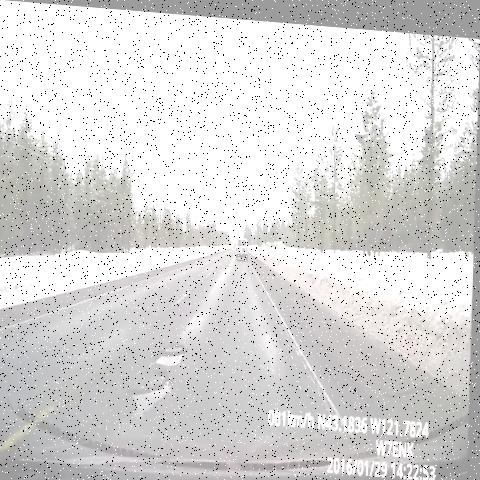pothole: (127, 360, 186, 427), (150, 326, 193, 377), (222, 250, 237, 272)
